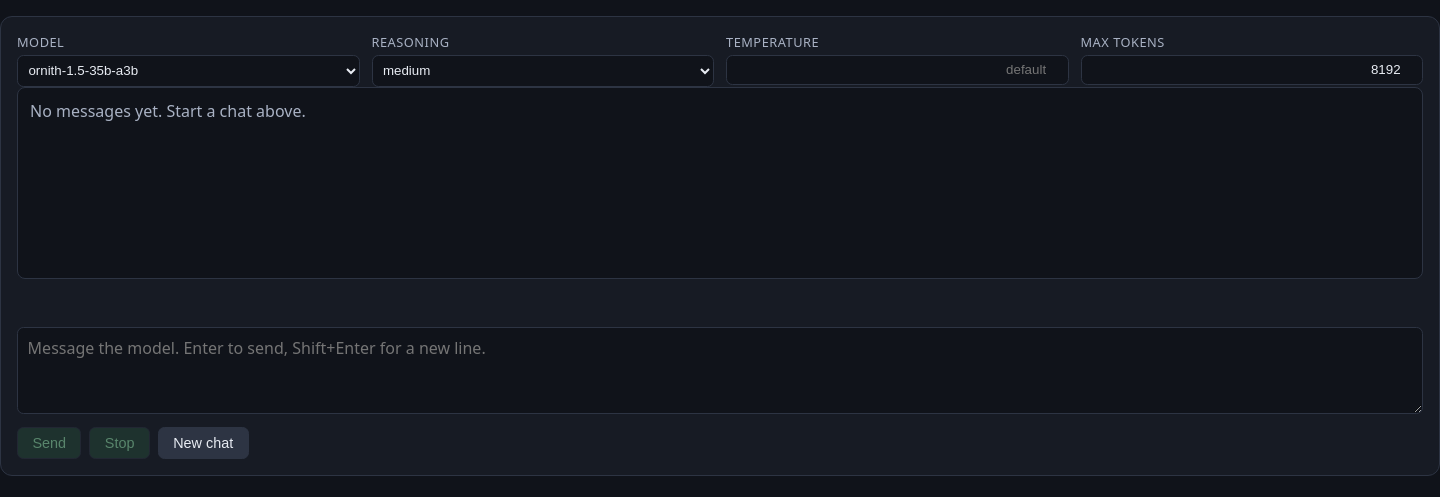
Test: ChatPlayground › keeps partial content when a stream is interrupted
The width and height of the screenshot is (1440, 497).
Replace the text in the text box with test id "prompt-input" with "Go" at (720, 370), box [17, 327, 1423, 414]
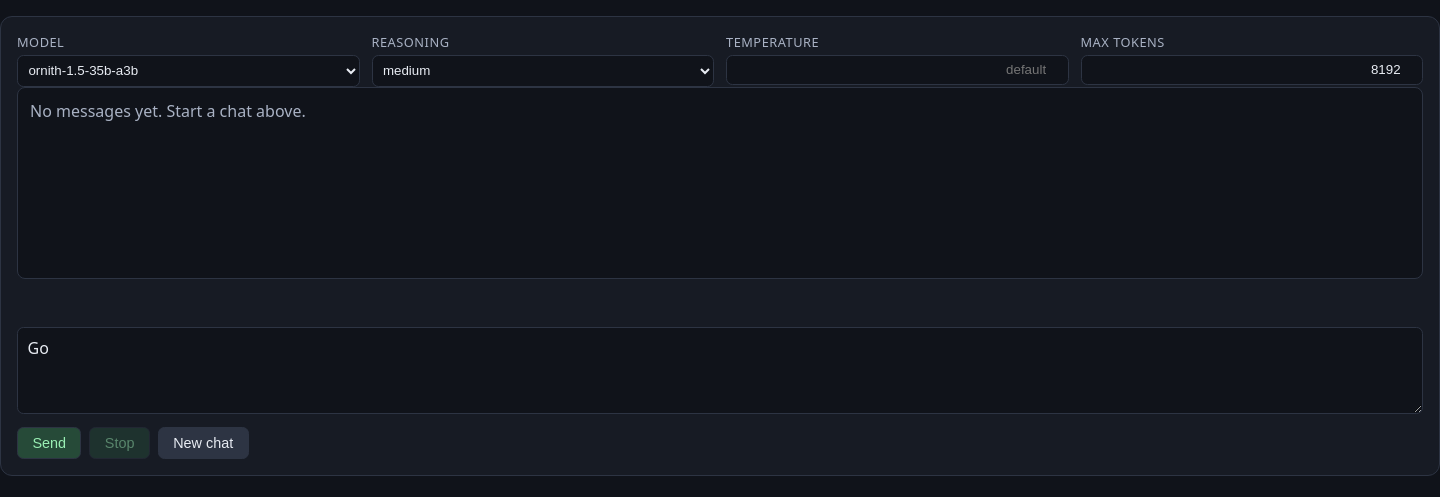
Click the button with test id "send-button" at (49, 443), box [17, 427, 81, 459]
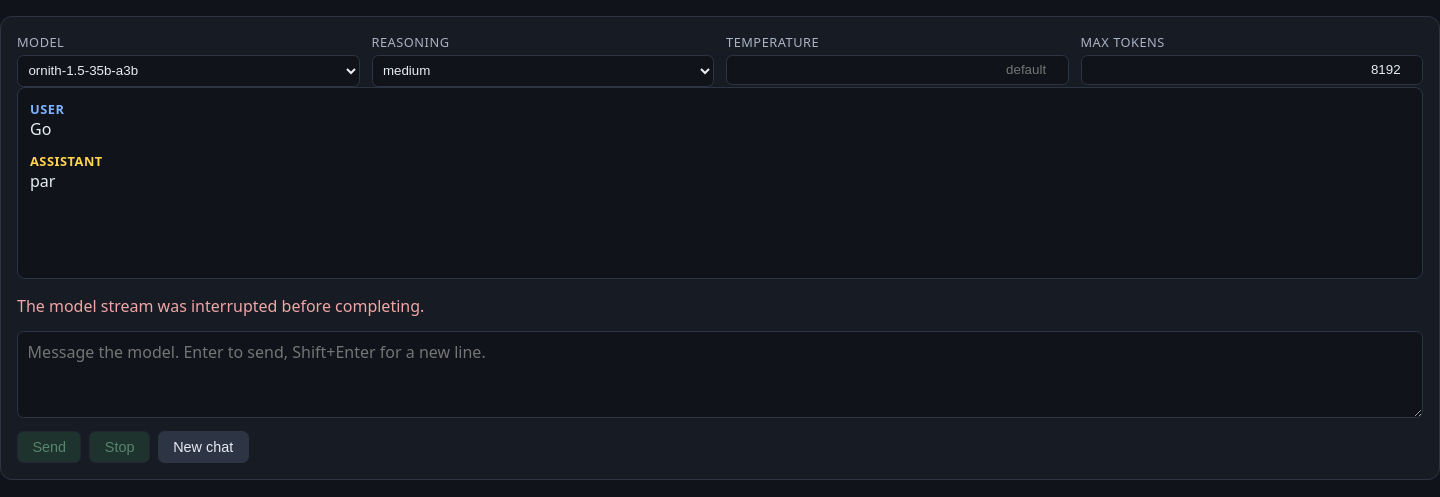
Now the text "par" is shown, box [30, 170, 55, 192]
Now the text "The model stream was interrupted before completing." is shown, box [17, 295, 424, 317]
Now the number of elements with class "message-assistant" is 1, box [30, 152, 103, 192]
